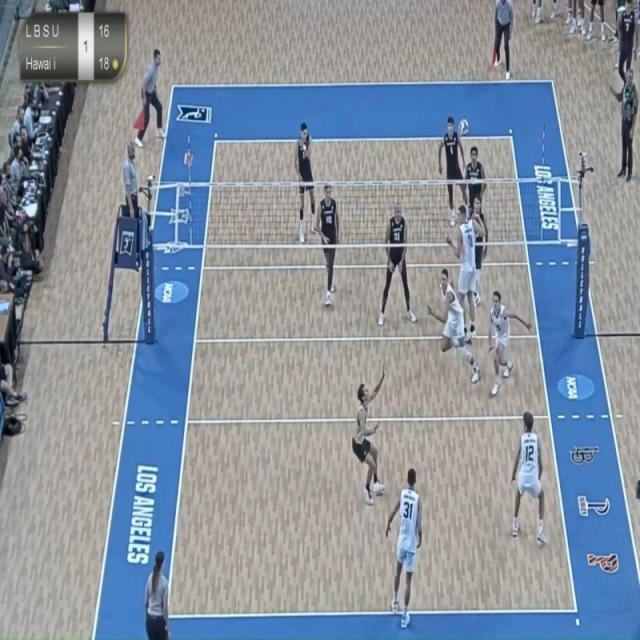volleyball: (458, 115, 471, 139)
